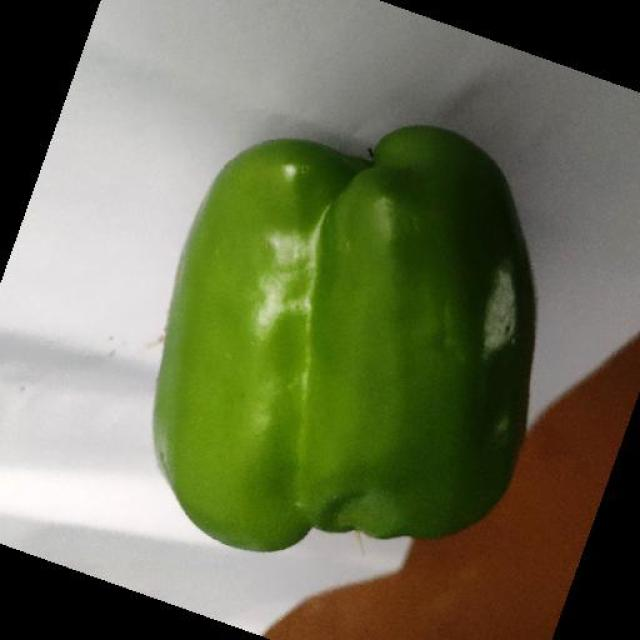Stale_Capsicum: (202, 142, 579, 472)
